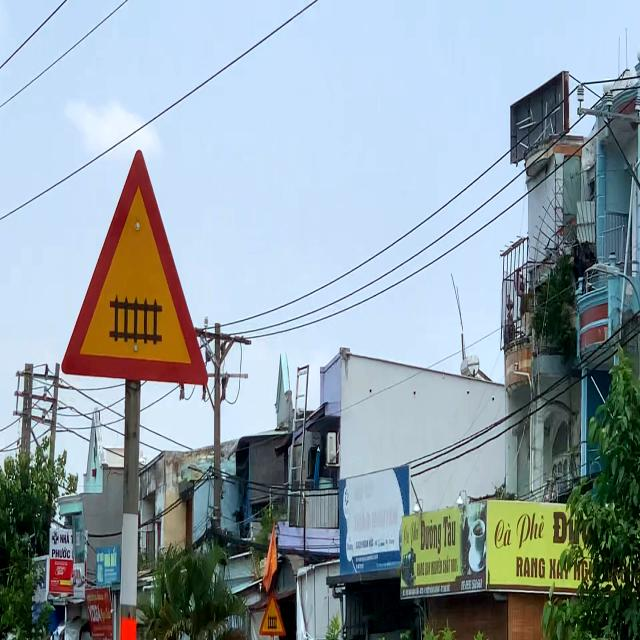W.210: (61, 148, 209, 387), (259, 591, 286, 636)
